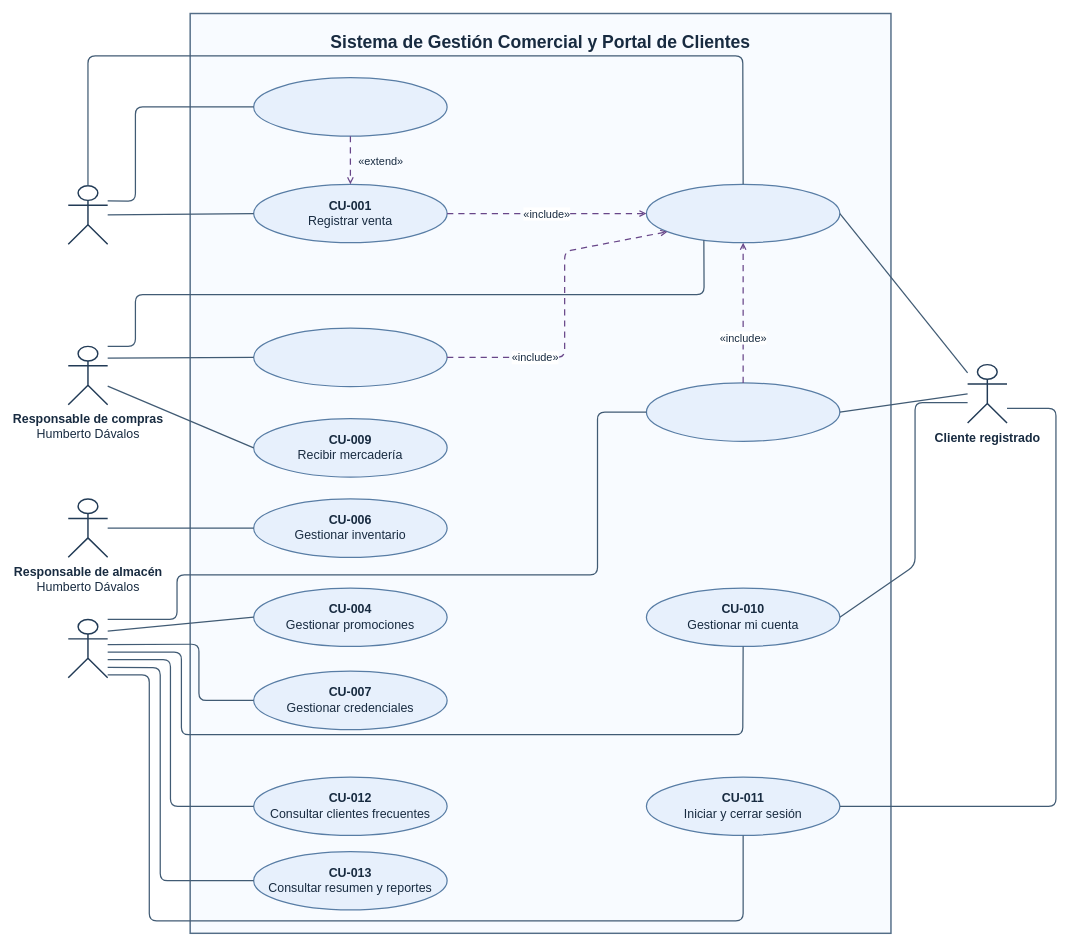
Image size: 1069x946. Some labels were removed from this diagram. The box of each missing label's shape, as (x1, y1, x2, y2) in pixels:
Administrador Humberto Dávalos: (67, 618, 108, 678)
CU-002 Vincular cliente a la venta: (253, 77, 447, 136)
CU-003 Consultar catálogo: (645, 183, 840, 243)
CU-005 Solicitar y gestionar reservas: (645, 382, 840, 442)
CU-008 Registrar compra mayorista: (253, 327, 447, 387)
Vendedor Humberto Dávalos: (67, 185, 108, 245)
